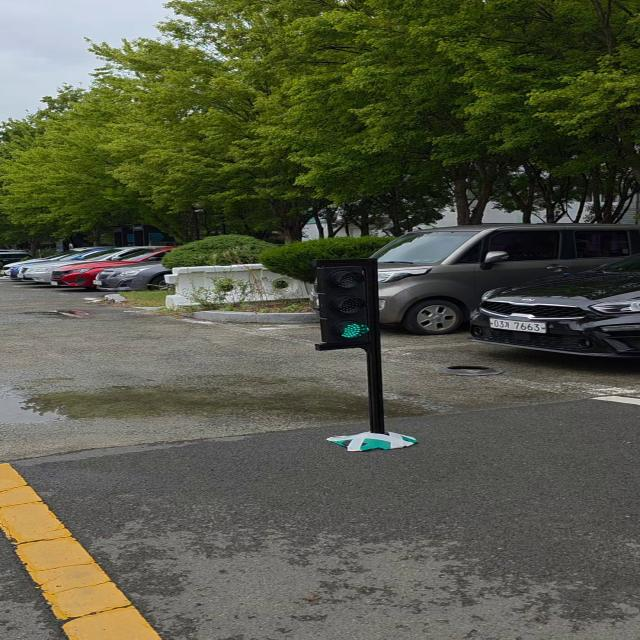green: (314, 258, 382, 354)
